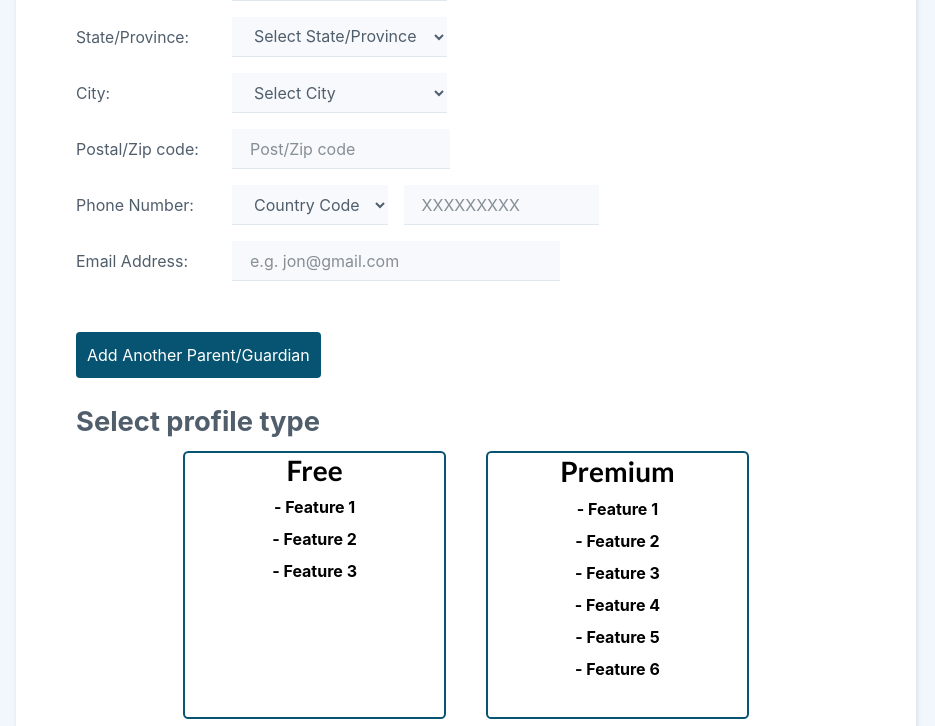
testing the remove second parent/guardian button
(page scrolled)
Note: this test tests to see if the remove second parent/guardian appears or not
Click the button with id "addGuardian".
click(198, 355)  # box [76,332,321,378]
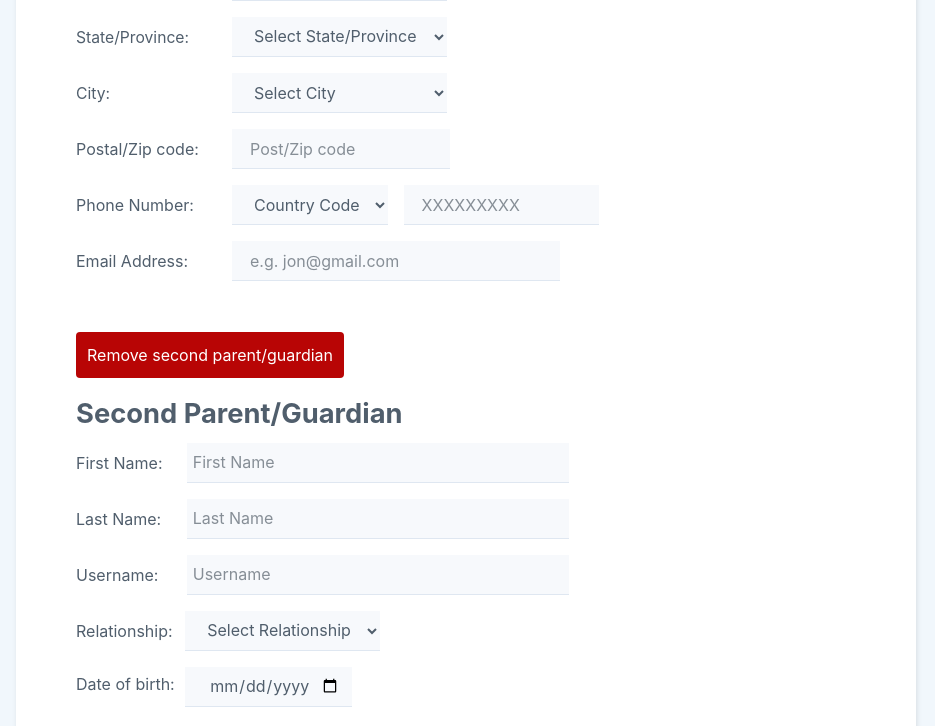
Check: the button with id "removeGuardian" reads "Remove second parent/guardian", box [76,332,344,378]
Check: no buttons with id "addGuardian" are shown
